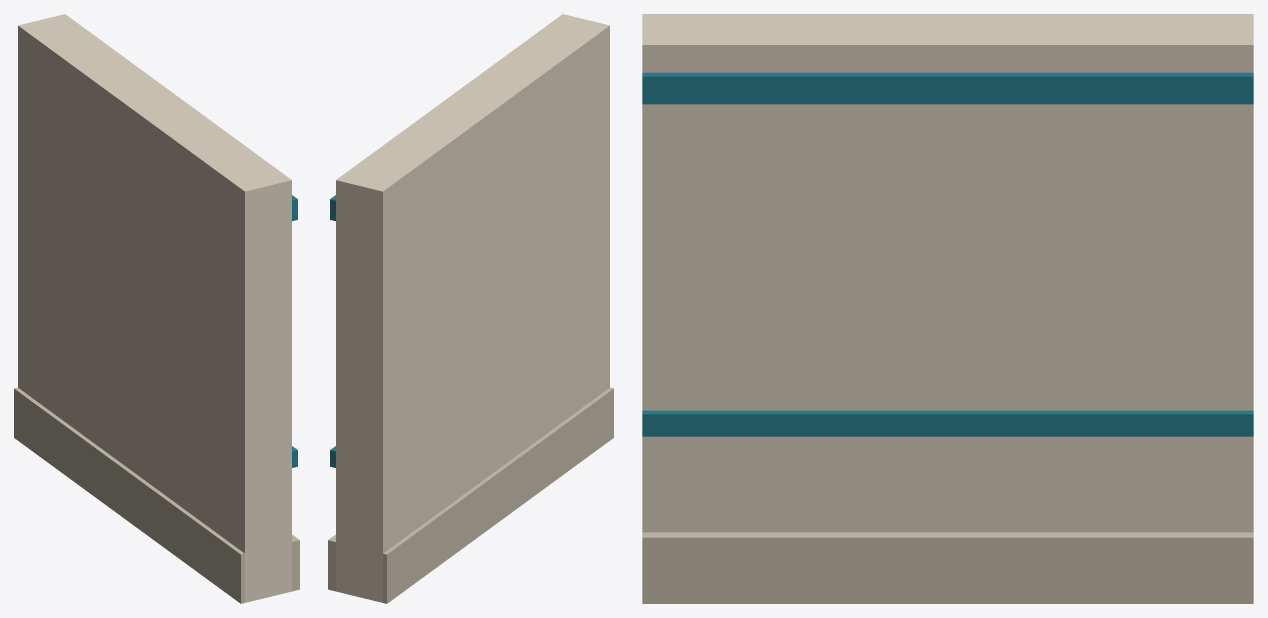
The model's file is wall.glb.
The picture shows the model from 3 angles, left to right: view 1: azimuth 30°, elevation 25°; view 2: azimuth 150°, elevation 25°; view 3: azimuth 270°, elevation 25°; orthographic projection. The views are drawn at different scales.
Parts seen in each view (by area): view 1: wall; view 2: wall; view 3: wall.
Boxes of the visible parts, x1,y1,x2,y2 form: wall: [14, 14, 299, 603]; wall: [328, 14, 613, 603]; wall: [642, 14, 1253, 603].
Bounding box in the file's own units: 0.15 × 1 × 1.
